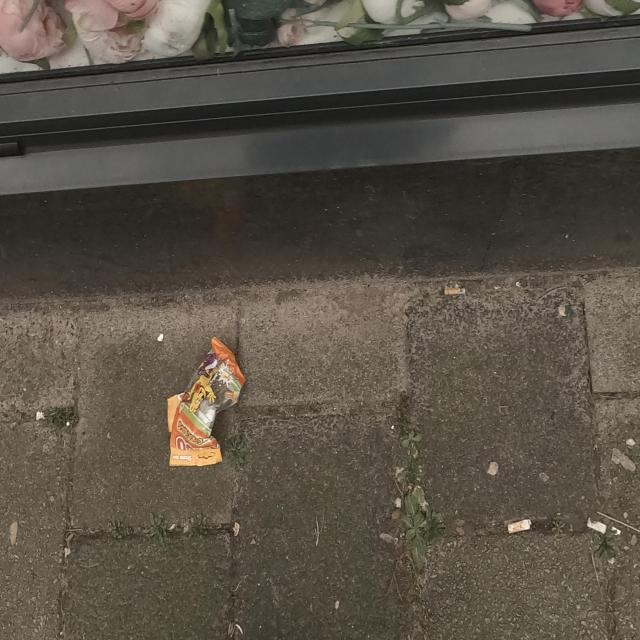Plastic: (166, 334, 246, 468)
